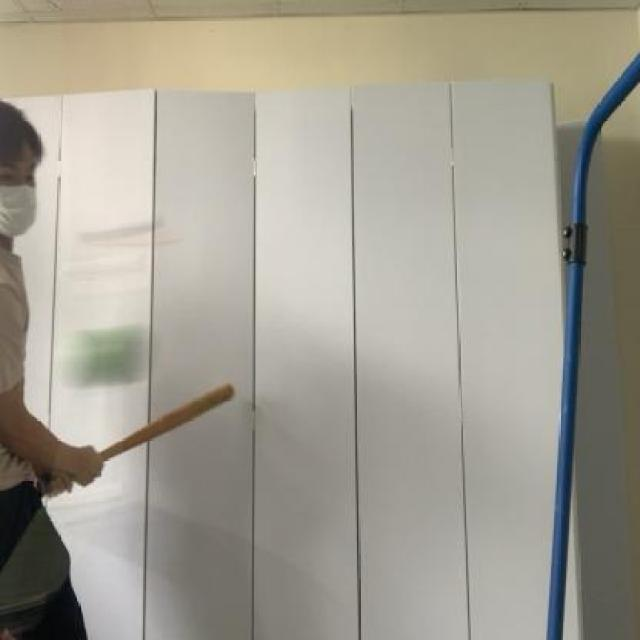baseball: (59, 318, 159, 392)
